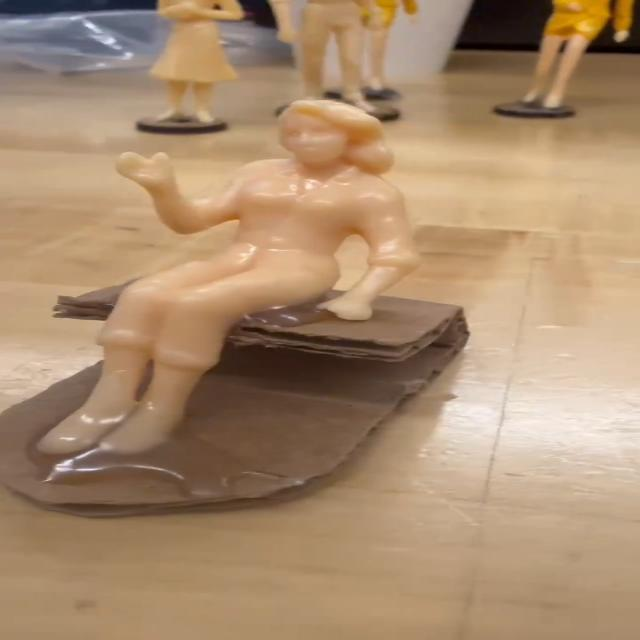Unauthorized: (80, 99, 438, 496)
